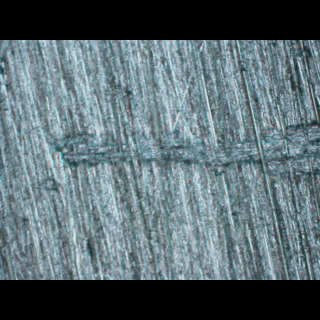d: (54, 117, 320, 177)
